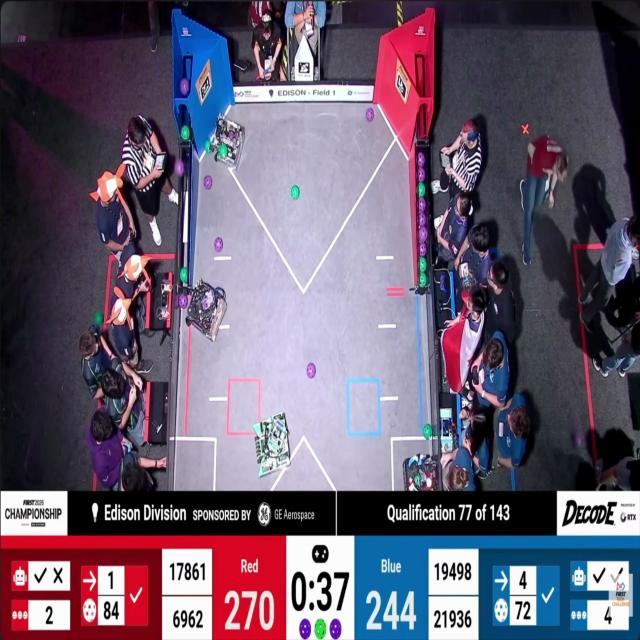artifact_green: (315, 619, 326, 639), (218, 144, 228, 159), (178, 294, 188, 308), (423, 424, 432, 439), (180, 267, 188, 283), (414, 471, 422, 487), (181, 126, 190, 140), (291, 185, 299, 200), (95, 311, 104, 324), (419, 273, 427, 287), (419, 258, 427, 272), (418, 183, 425, 197), (205, 140, 211, 153)
artifact_purple: (299, 619, 311, 639), (330, 619, 341, 639), (175, 158, 185, 177), (180, 78, 189, 96), (203, 175, 213, 190), (307, 363, 316, 379), (574, 433, 583, 447), (179, 294, 188, 308), (440, 275, 447, 293), (419, 227, 427, 242), (215, 237, 223, 252), (366, 108, 374, 122), (419, 198, 426, 213), (418, 167, 425, 182), (419, 243, 427, 256), (419, 213, 426, 227), (418, 152, 425, 166), (173, 294, 179, 307)
